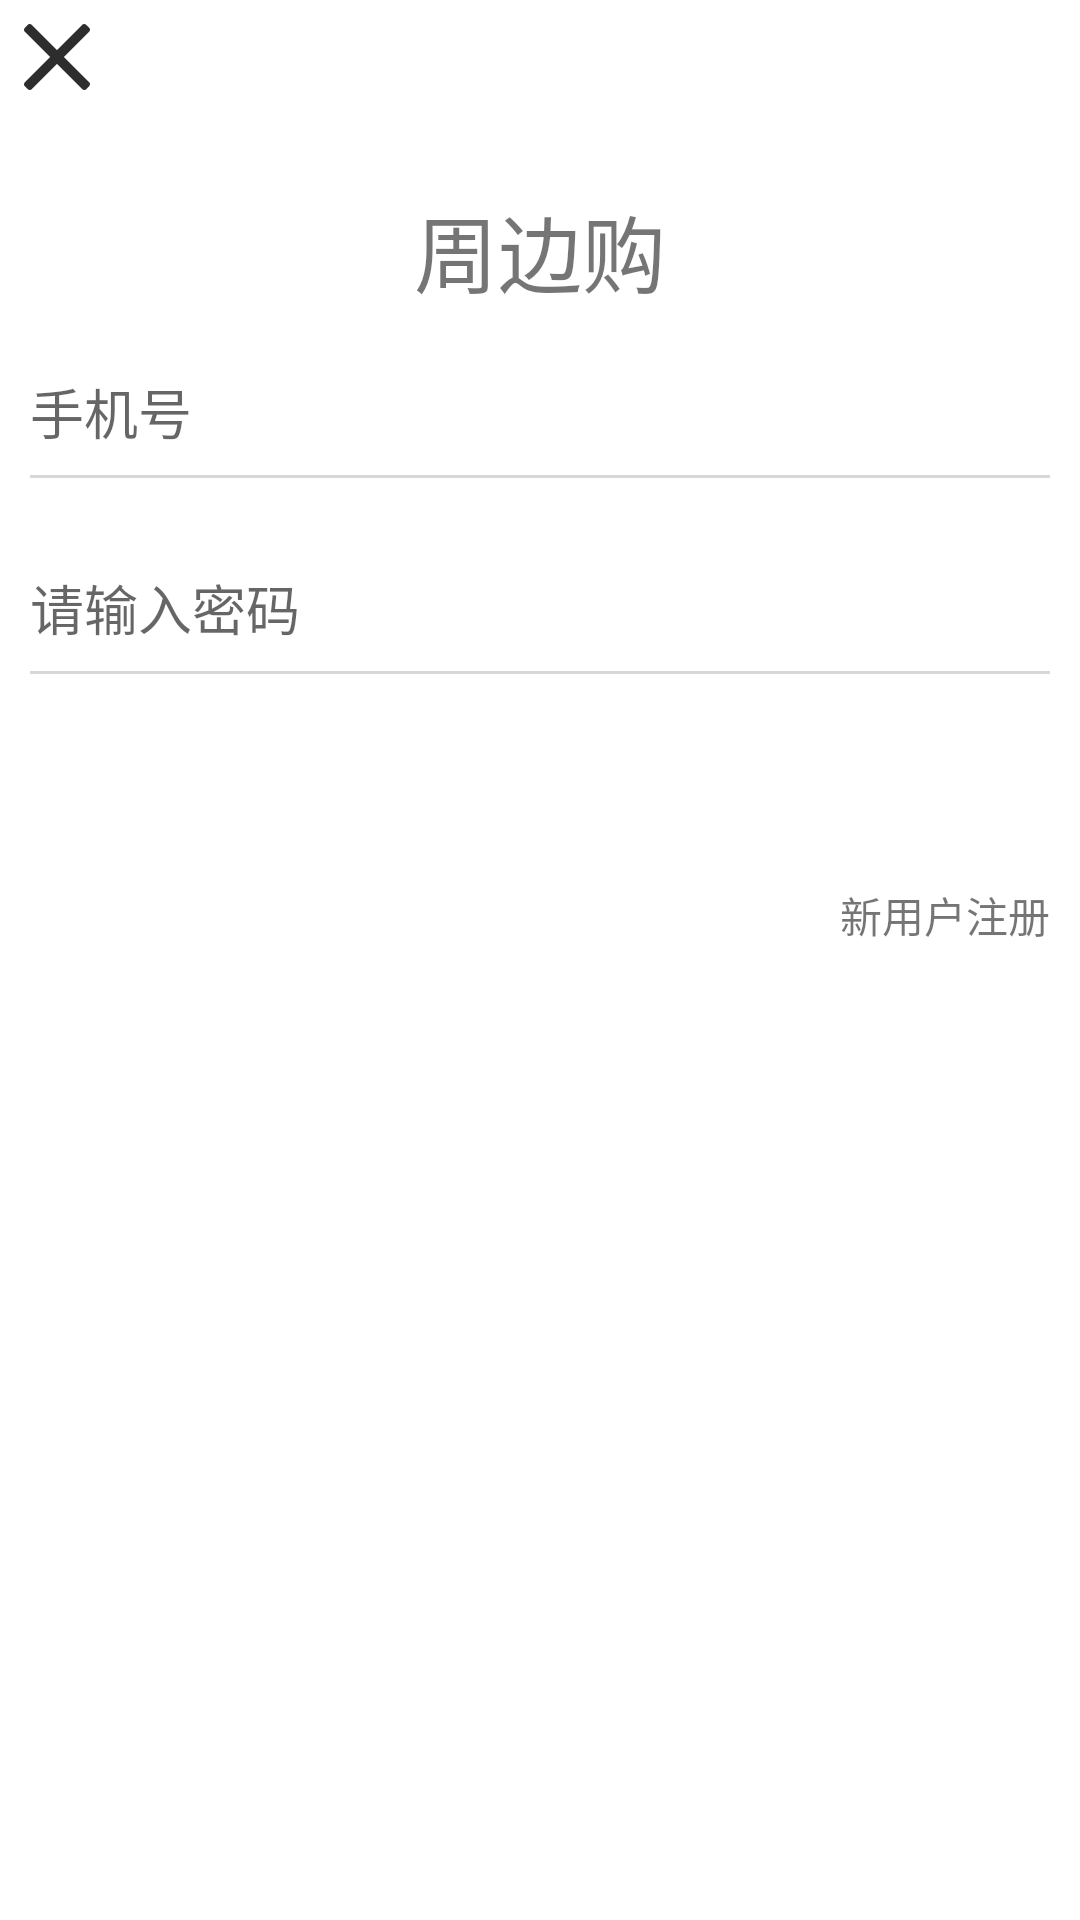

Icon click points for this 1080px×1920px phone screenshot, format [x,y]:
login back: [57,57]
